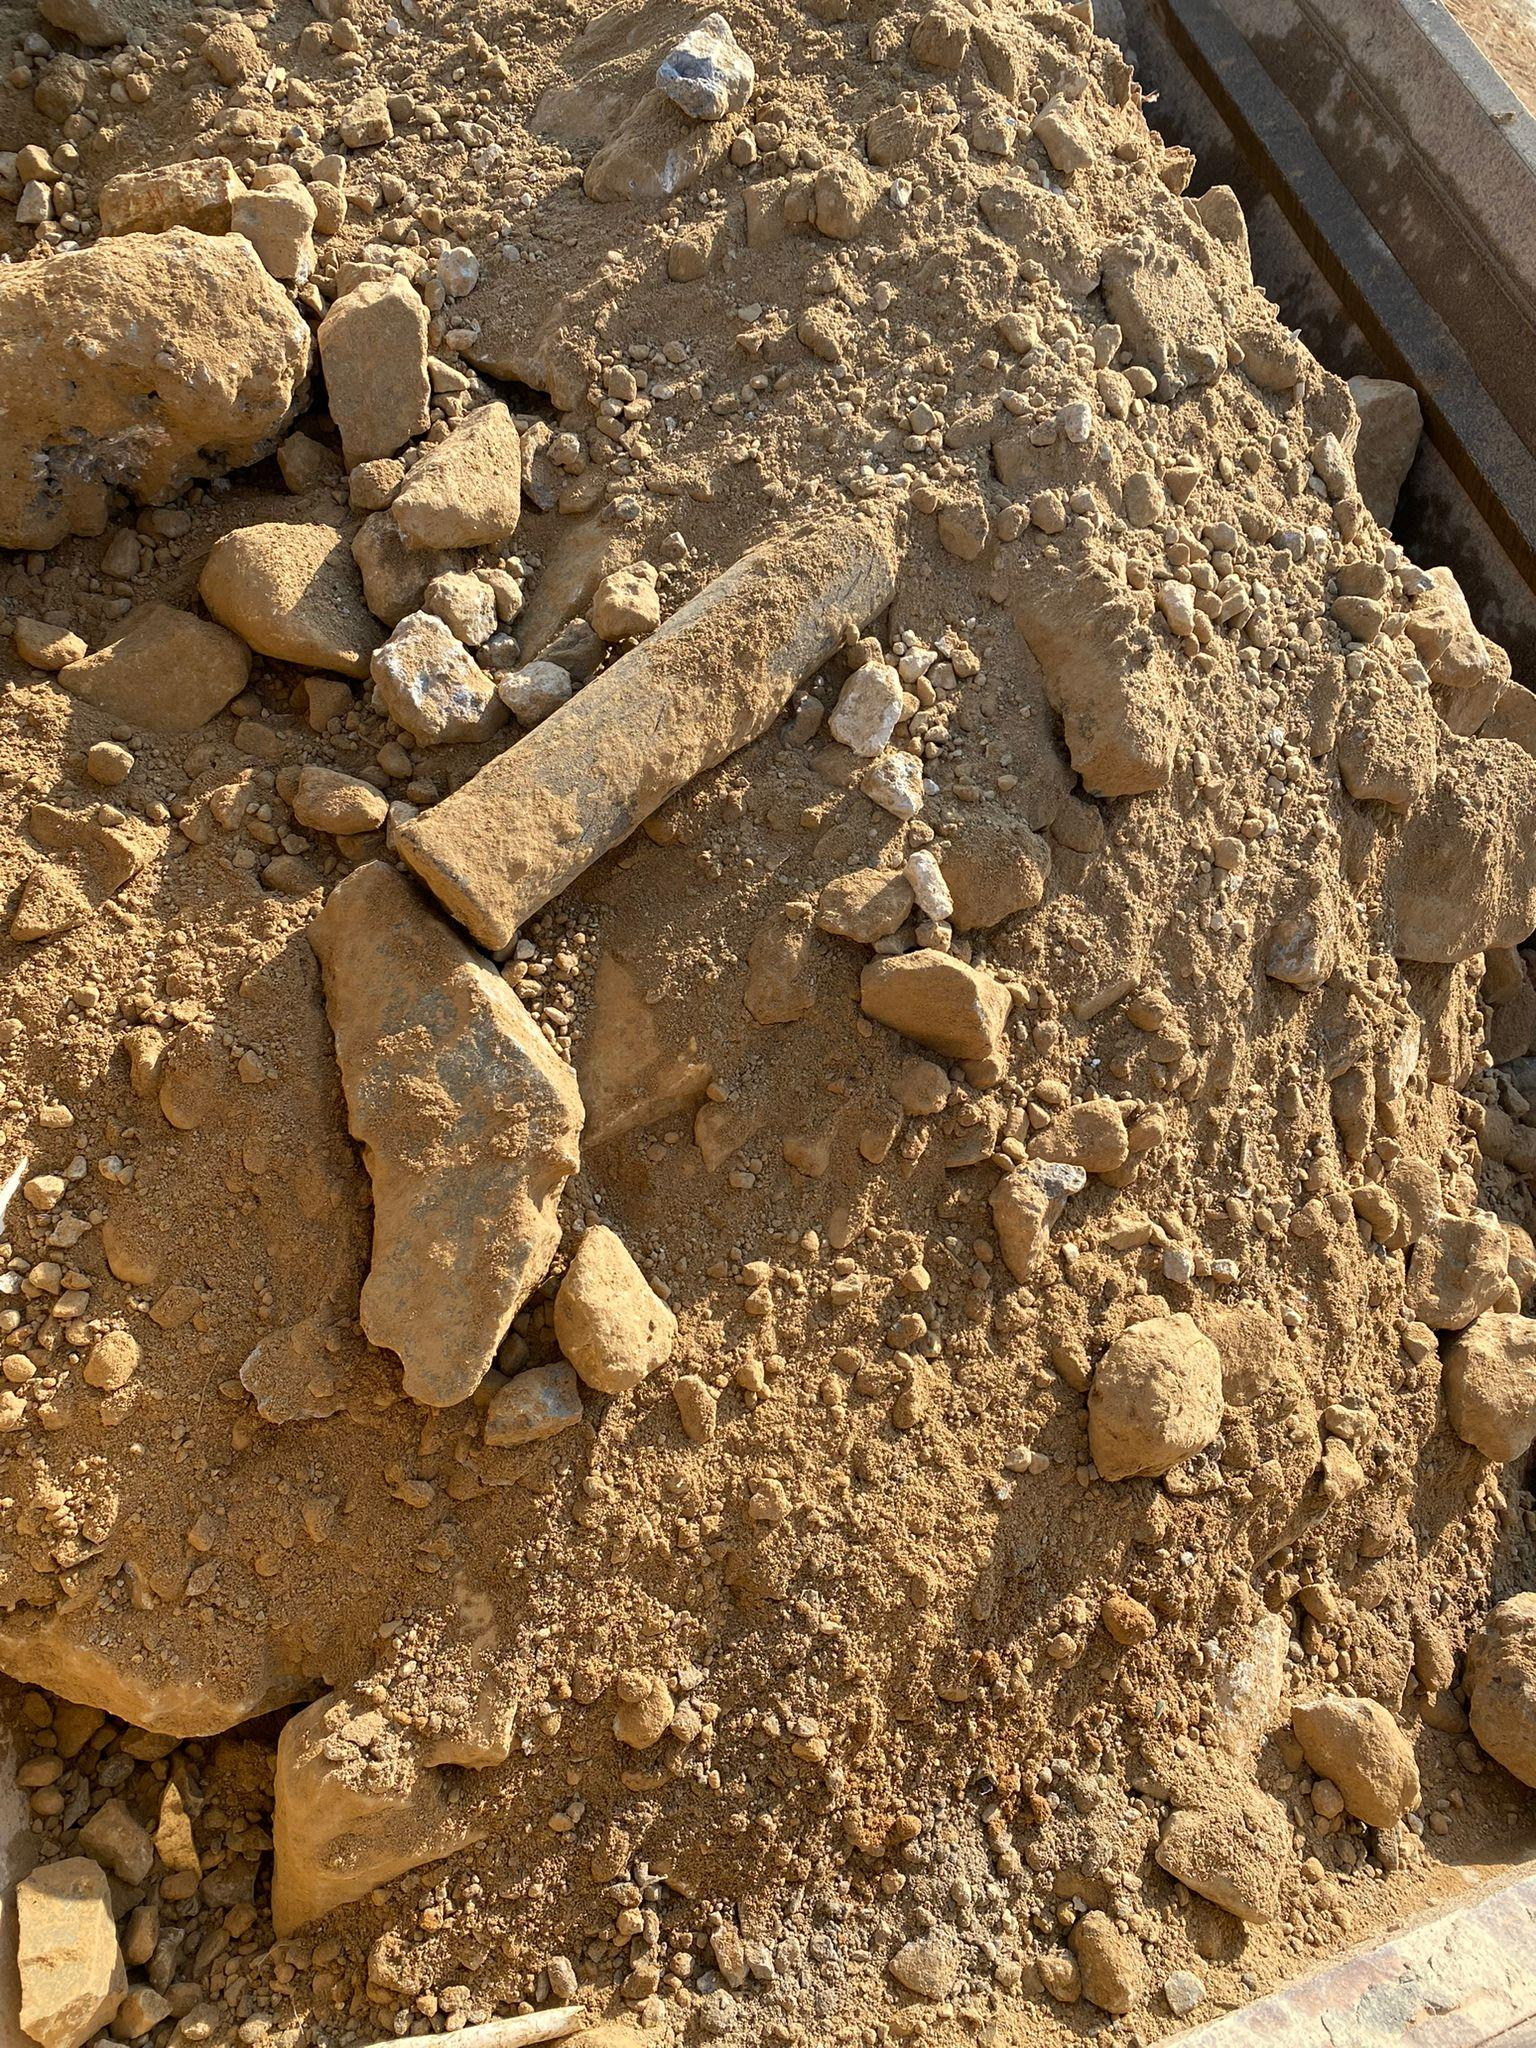dry: (0, 0, 1486, 1922)
